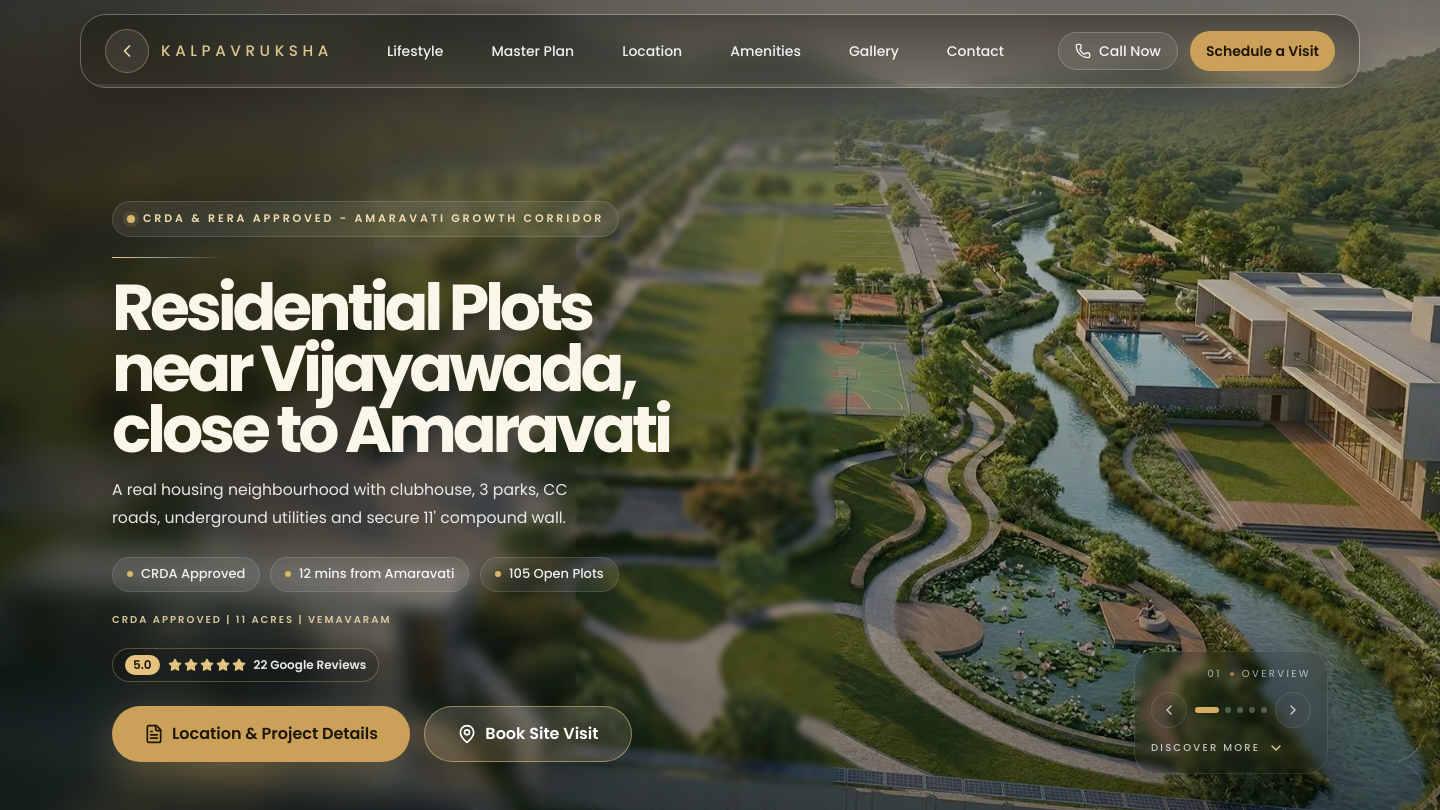
hero next/previous controls change slides
The image size is (1440, 810).
Expected: the heading "Residential Plots near Vijayawada, close to Amaravati" is shown, [112,262,669,474]
Click the button named "Show next slide": (1293, 710) [1275,692,1311,728]
Wait 200 ms
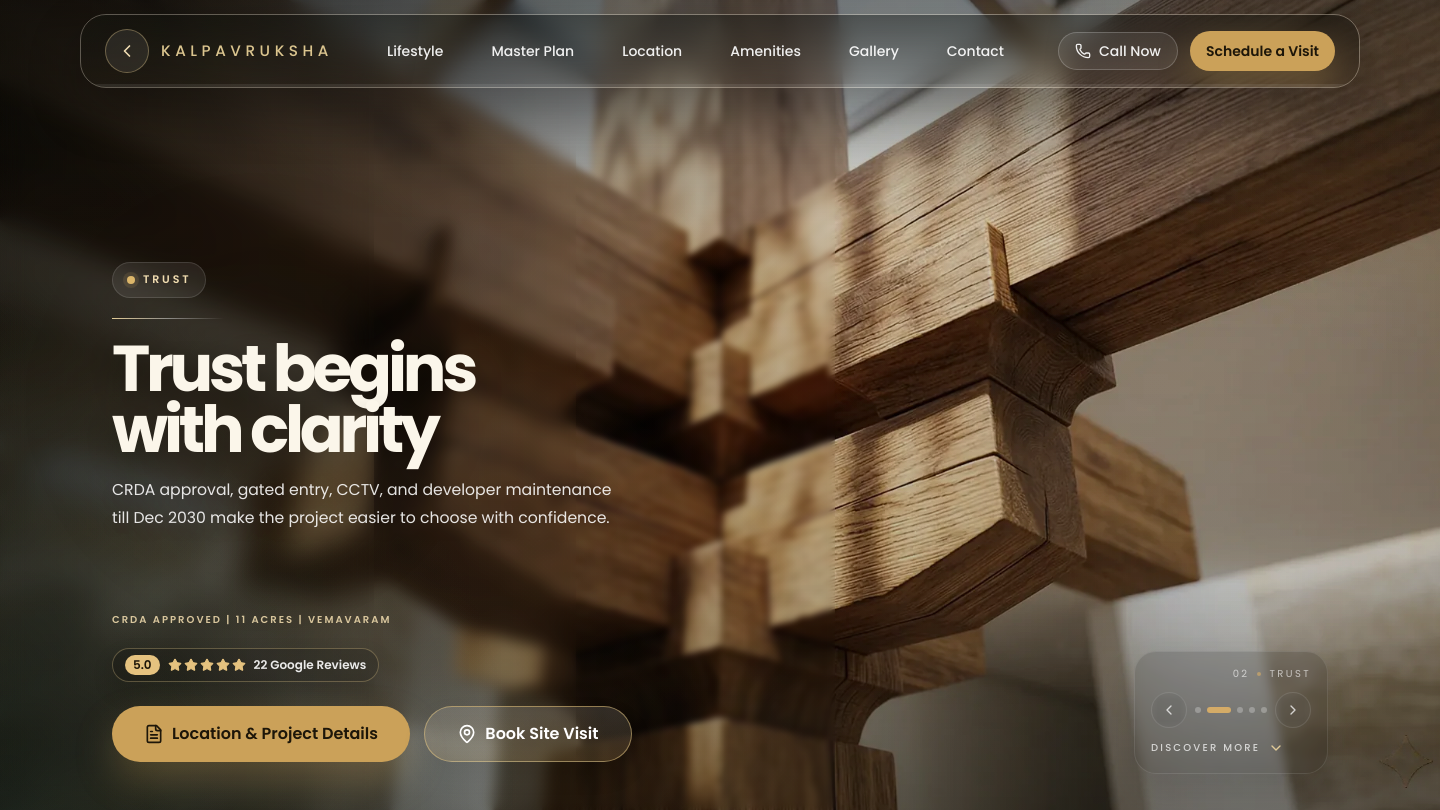
Expected: the heading "Trust begins with clarity" is shown, [112,323,474,474]
Click the button named "Show previous slide": (1169, 710) [1151,692,1187,728]
Wait 200 ms
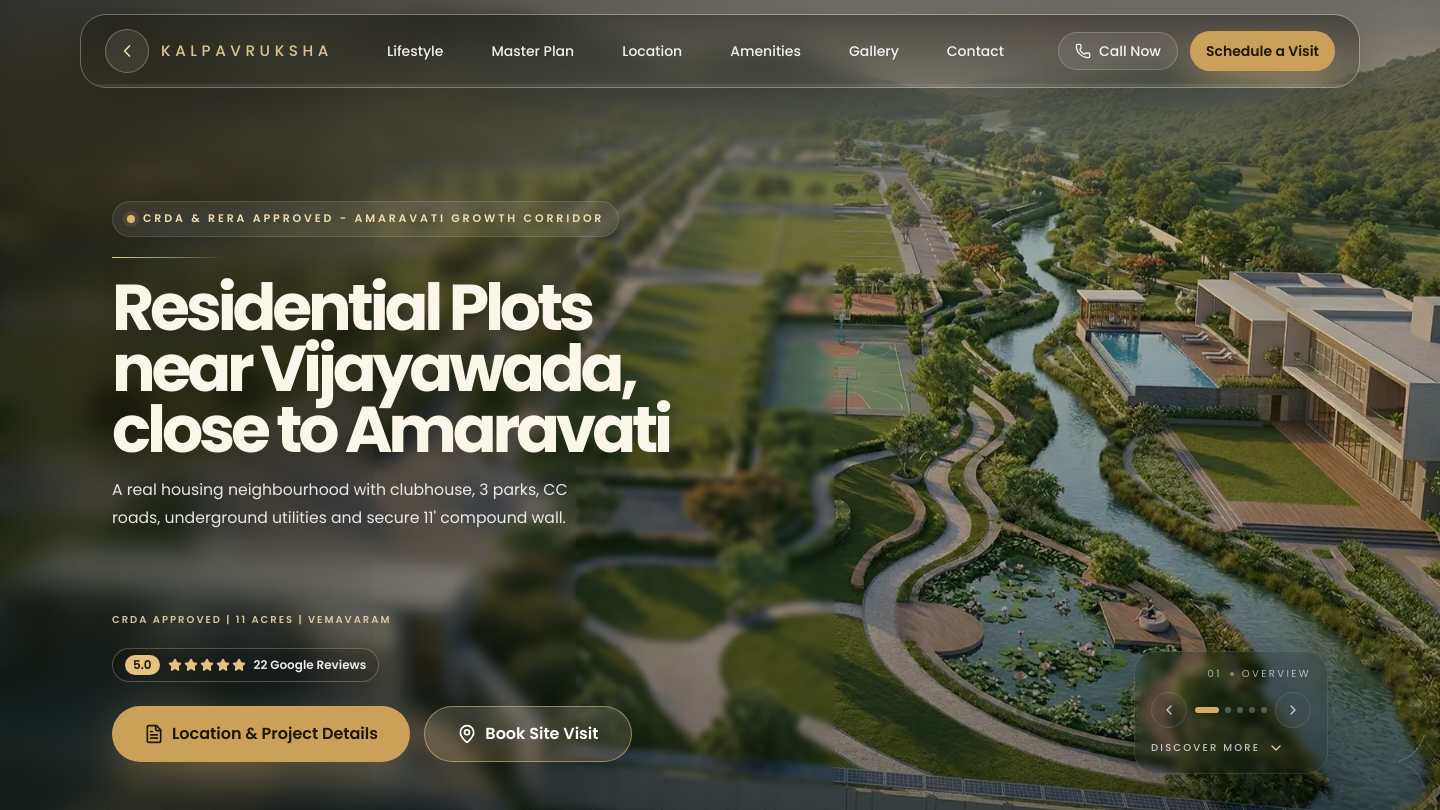
Expected: the heading "Residential Plots near Vijayawada, close to Amaravati" is shown, [112,262,669,474]
